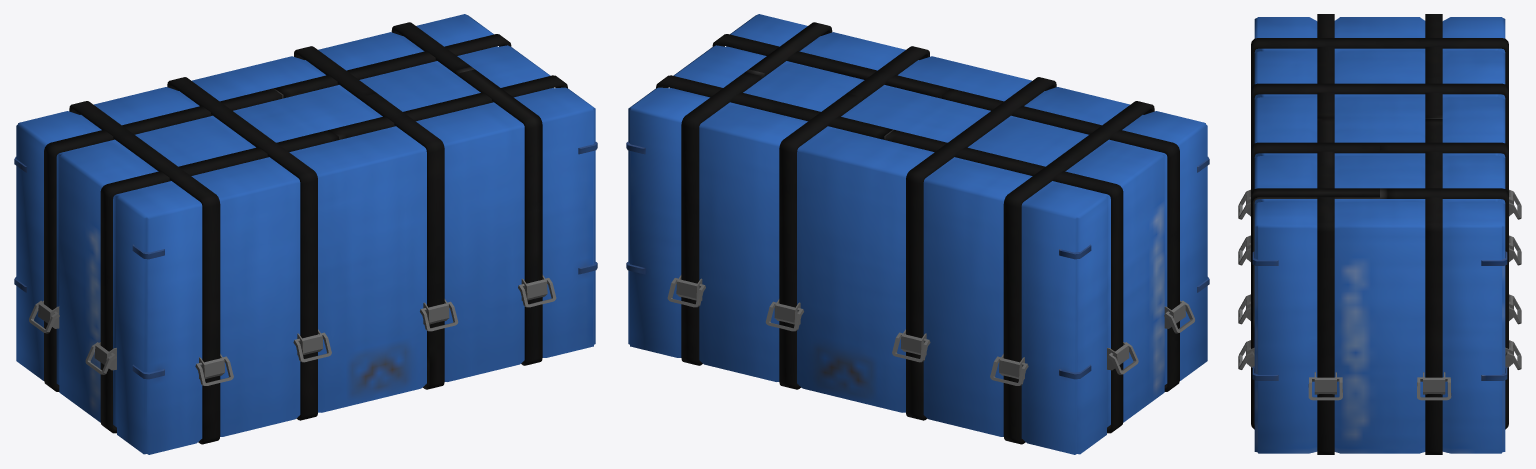
Rendered from prop_crate_tarp_large.glb.
The picture shows the model from 3 angles, left to right: view 1: azimuth 30°, elevation 25°; view 2: azimuth 150°, elevation 25°; view 3: azimuth 270°, elevation 25°; orthographic projection. The views are drawn at different scales.
Parts seen in each view (by area): view 1: Prop_Crate_Tarp_Large; view 2: Prop_Crate_Tarp_Large; view 3: Prop_Crate_Tarp_Large.
Part boxes in pixels (x1,y1,x2,y2): Prop_Crate_Tarp_Large: [14, 14, 597, 454]; Prop_Crate_Tarp_Large: [626, 14, 1209, 454]; Prop_Crate_Tarp_Large: [1238, 14, 1521, 454].
Size of the model in its own units: 3.22 by 1.57 by 1.72.
1 material, 1 textured.
